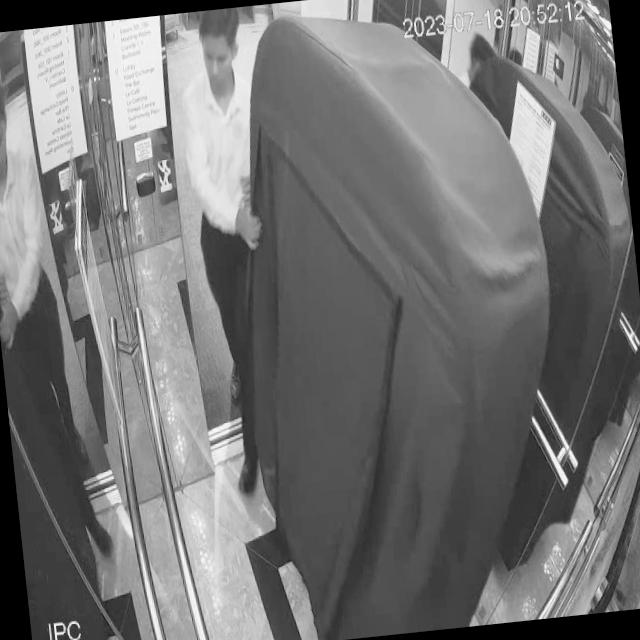person: (177, 6, 300, 520), (0, 47, 117, 579)
